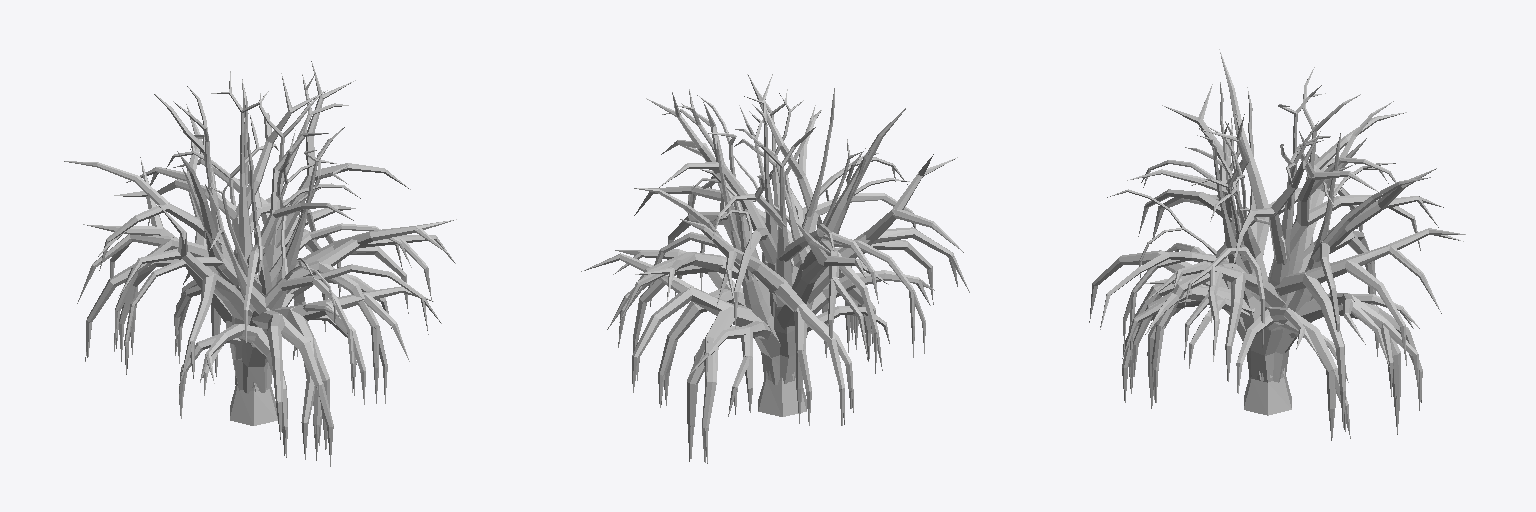
Rendered from tree29.obj.
The picture shows the model from 3 angles: view 1: azimuth 30°, elevation 25°; view 2: azimuth 150°, elevation 25°; view 3: azimuth 270°, elevation 25°; orthographic projection.
Parts seen in each view (by area): view 1: tree; view 2: tree; view 3: tree.
Boxes of the visible parts, x1=… form: tree: x1=64, y1=61, x2=456, y2=466; tree: x1=581, y1=74, x2=969, y2=463; tree: x1=1089, y1=49, x2=1465, y2=440.
Bounding box in the file's own units: 7.99 × 7.72 × 7.81.